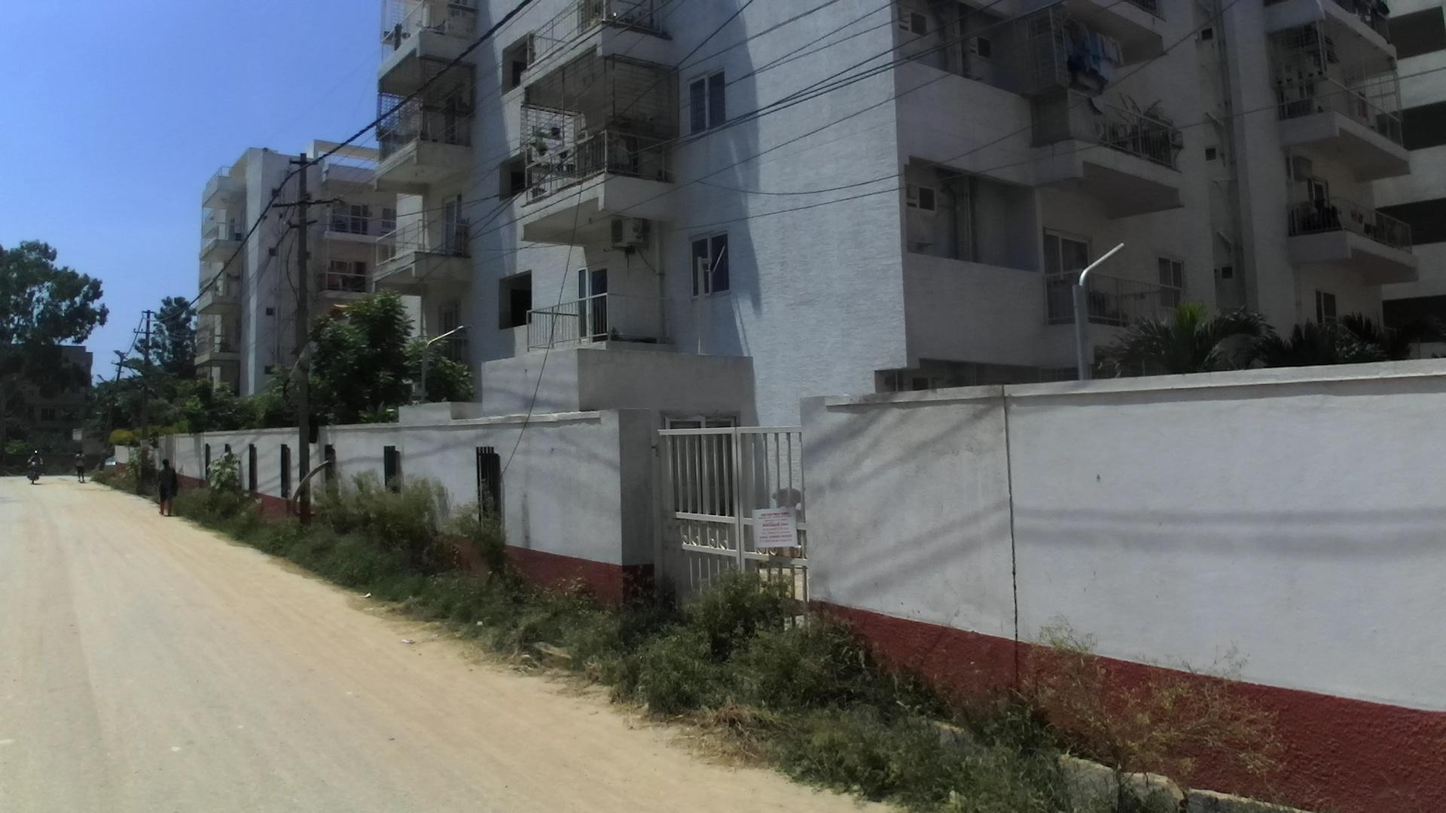streetlight: (114, 350, 130, 361), (97, 373, 106, 382)
